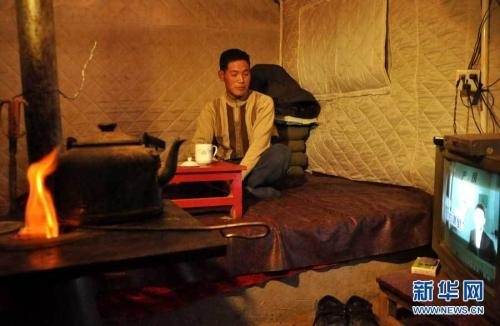fire: (21, 144, 63, 237)
